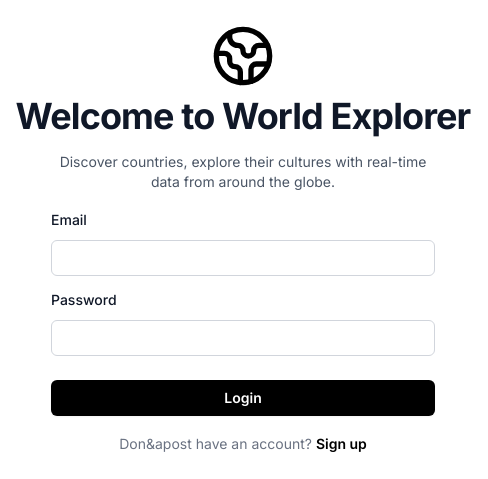
Scenario: Login Page › shows error for incorrect credentials
Type "fail@example.com" into the field labelled "Email". click: point(243, 258)
box: [51,240,435,276]
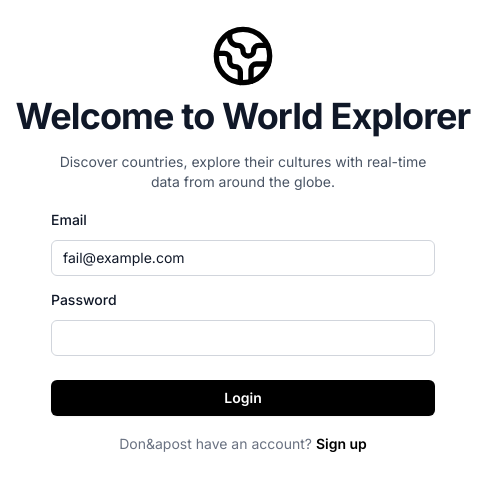
Type "wrongpass" into the password field labelled "Password". click: point(243, 338)
box: [51,320,435,356]
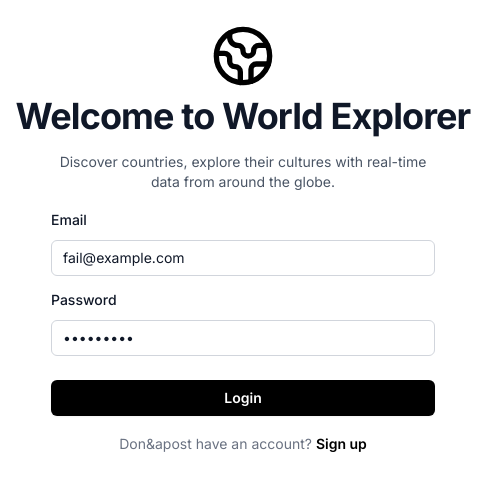
Click the button "Login". click: point(243, 398)
box: [51,380,435,416]
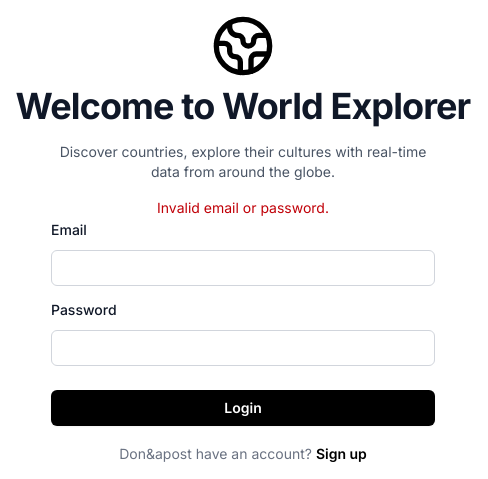
Check: the text "Invalid email or password." is shown, box [157,199,329,216]
